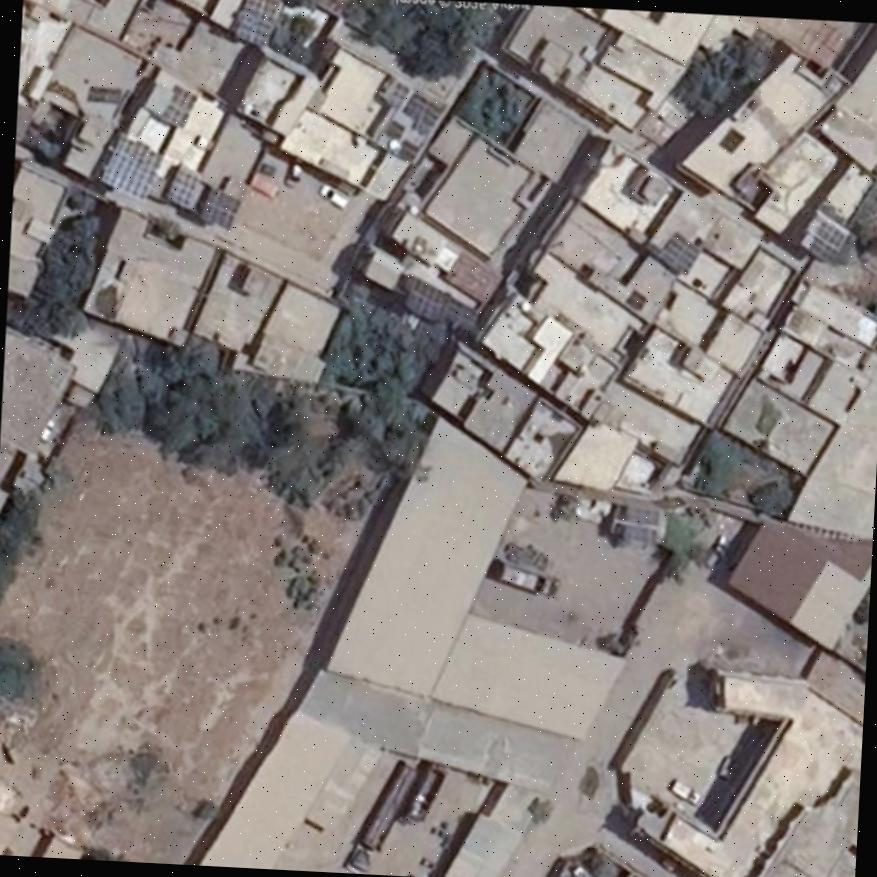Solarpanel: (101, 137, 157, 196), (233, 0, 279, 45), (661, 230, 702, 275), (404, 279, 445, 320), (160, 84, 195, 126), (202, 190, 238, 227), (168, 169, 201, 204)
